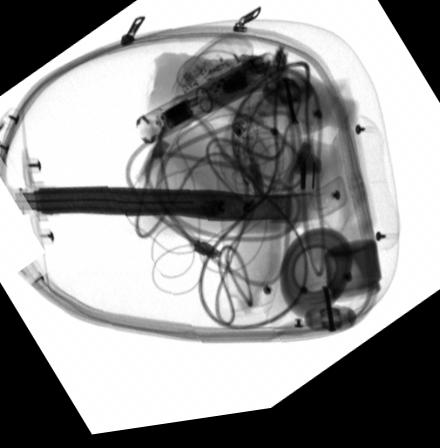Baton: (136, 58, 279, 148)
